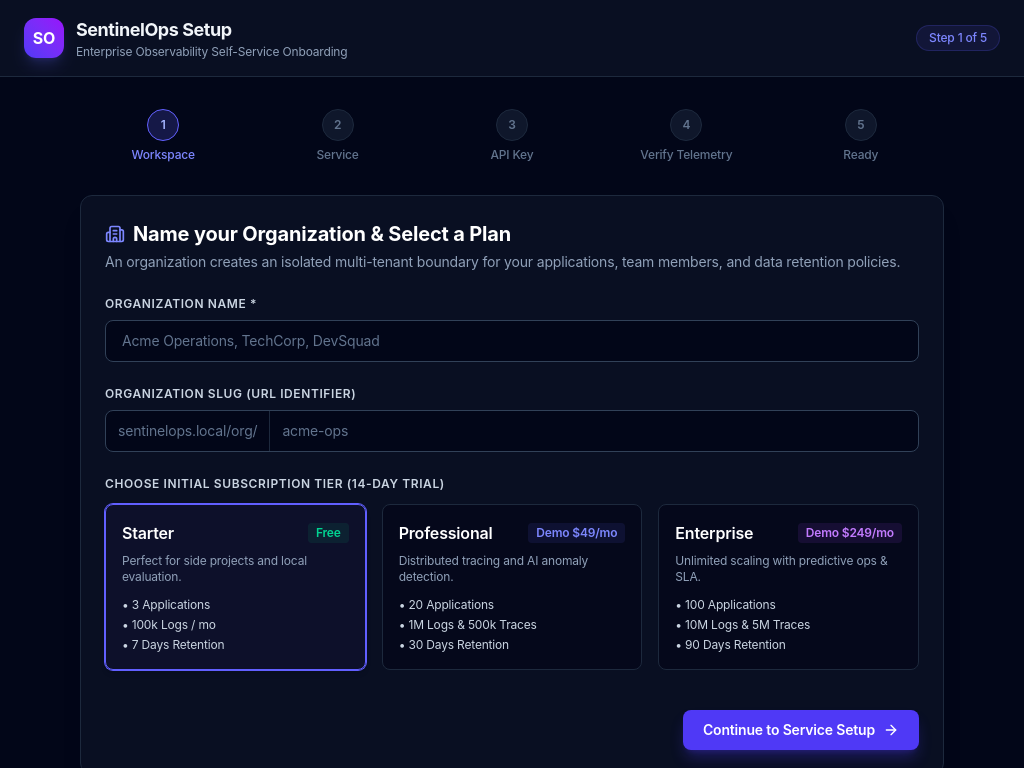
Test: OnboardingPage Wizard › transitions to step 2, allows entering service details, and provisions workspace
Type "Test Ops Org" into the field with placeholder "Acme Operations, TechCorp, DevSquad". click: {"x": 512, "y": 341}
box: [105,320,919,362]
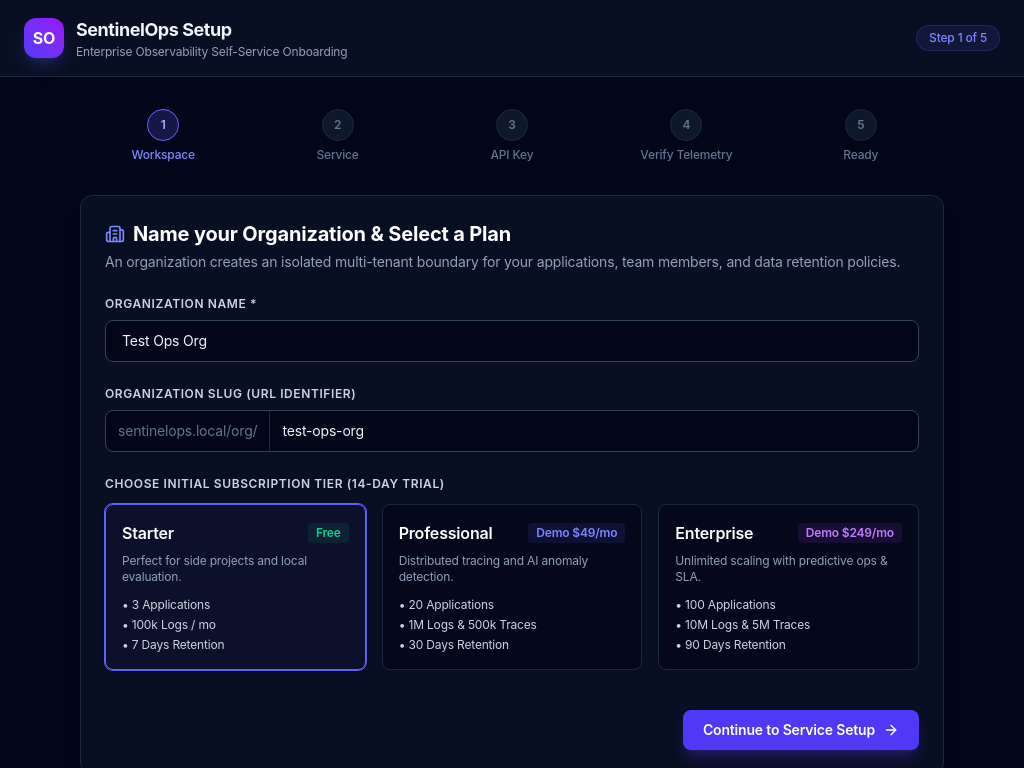
Click the button "Continue to Service Setup". click: {"x": 801, "y": 730}
box: [683,710,919,750]
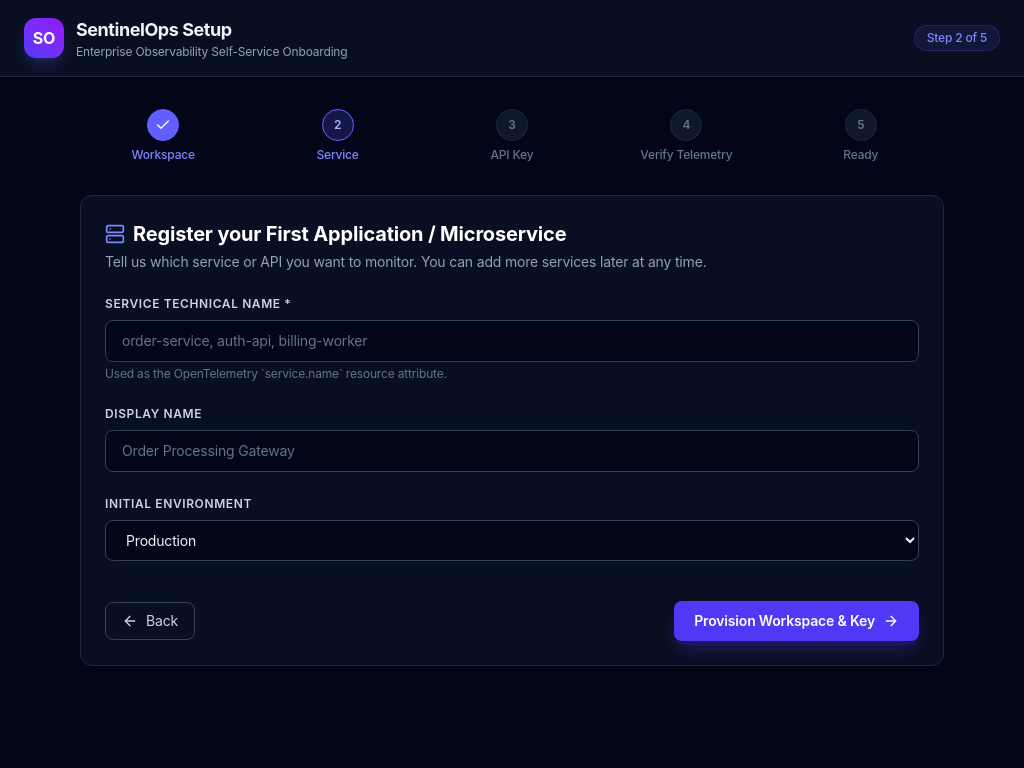
Now the heading "Register your First Application / Microservice" is shown, box [105,222,566,246]
Now the field with placeholder "order-service, auth-api, billing-worker" is shown
Type "payment-api" into the field with placeholder "order-service, auth-api, billing-worker". click: {"x": 512, "y": 341}
box: [105,320,919,362]
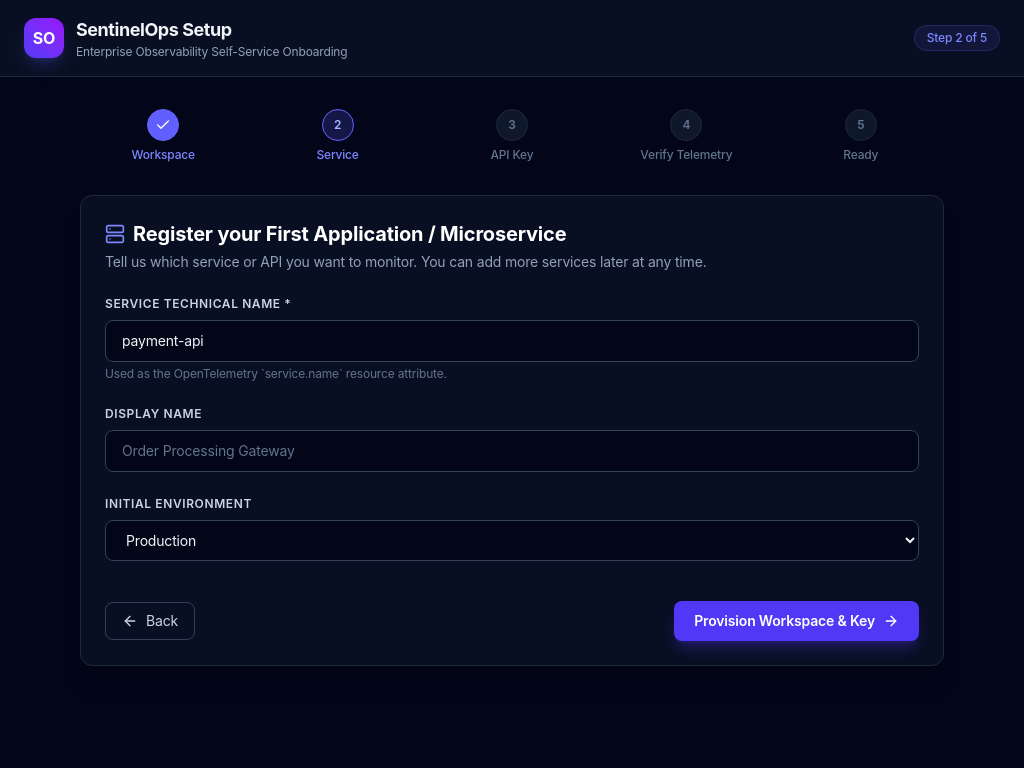
Click the button "Provision Workspace & Key". click: {"x": 797, "y": 621}
box: [674,601,919,641]
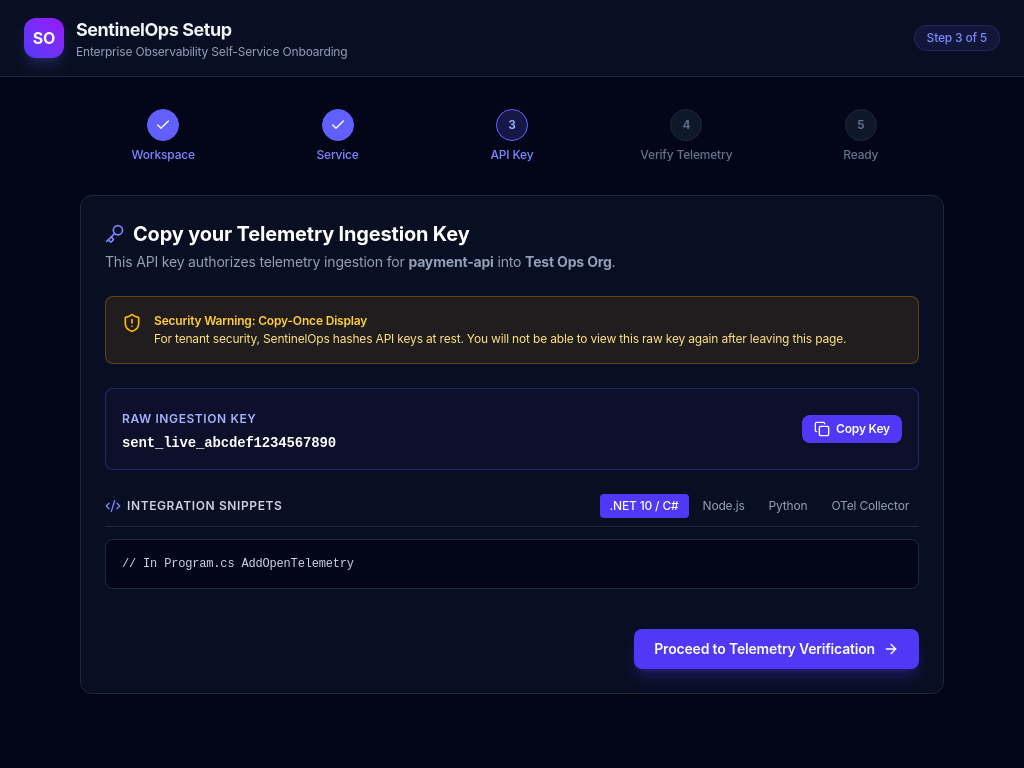
Now the heading "Copy your Telemetry Ingestion Key" is shown, box [105,222,470,246]
Now the text "sent_live_abcdef1234567890" is shown, box [122,433,336,453]
Now the text "Security Warning: Copy-Once Display" is shown, box [154,313,367,328]
